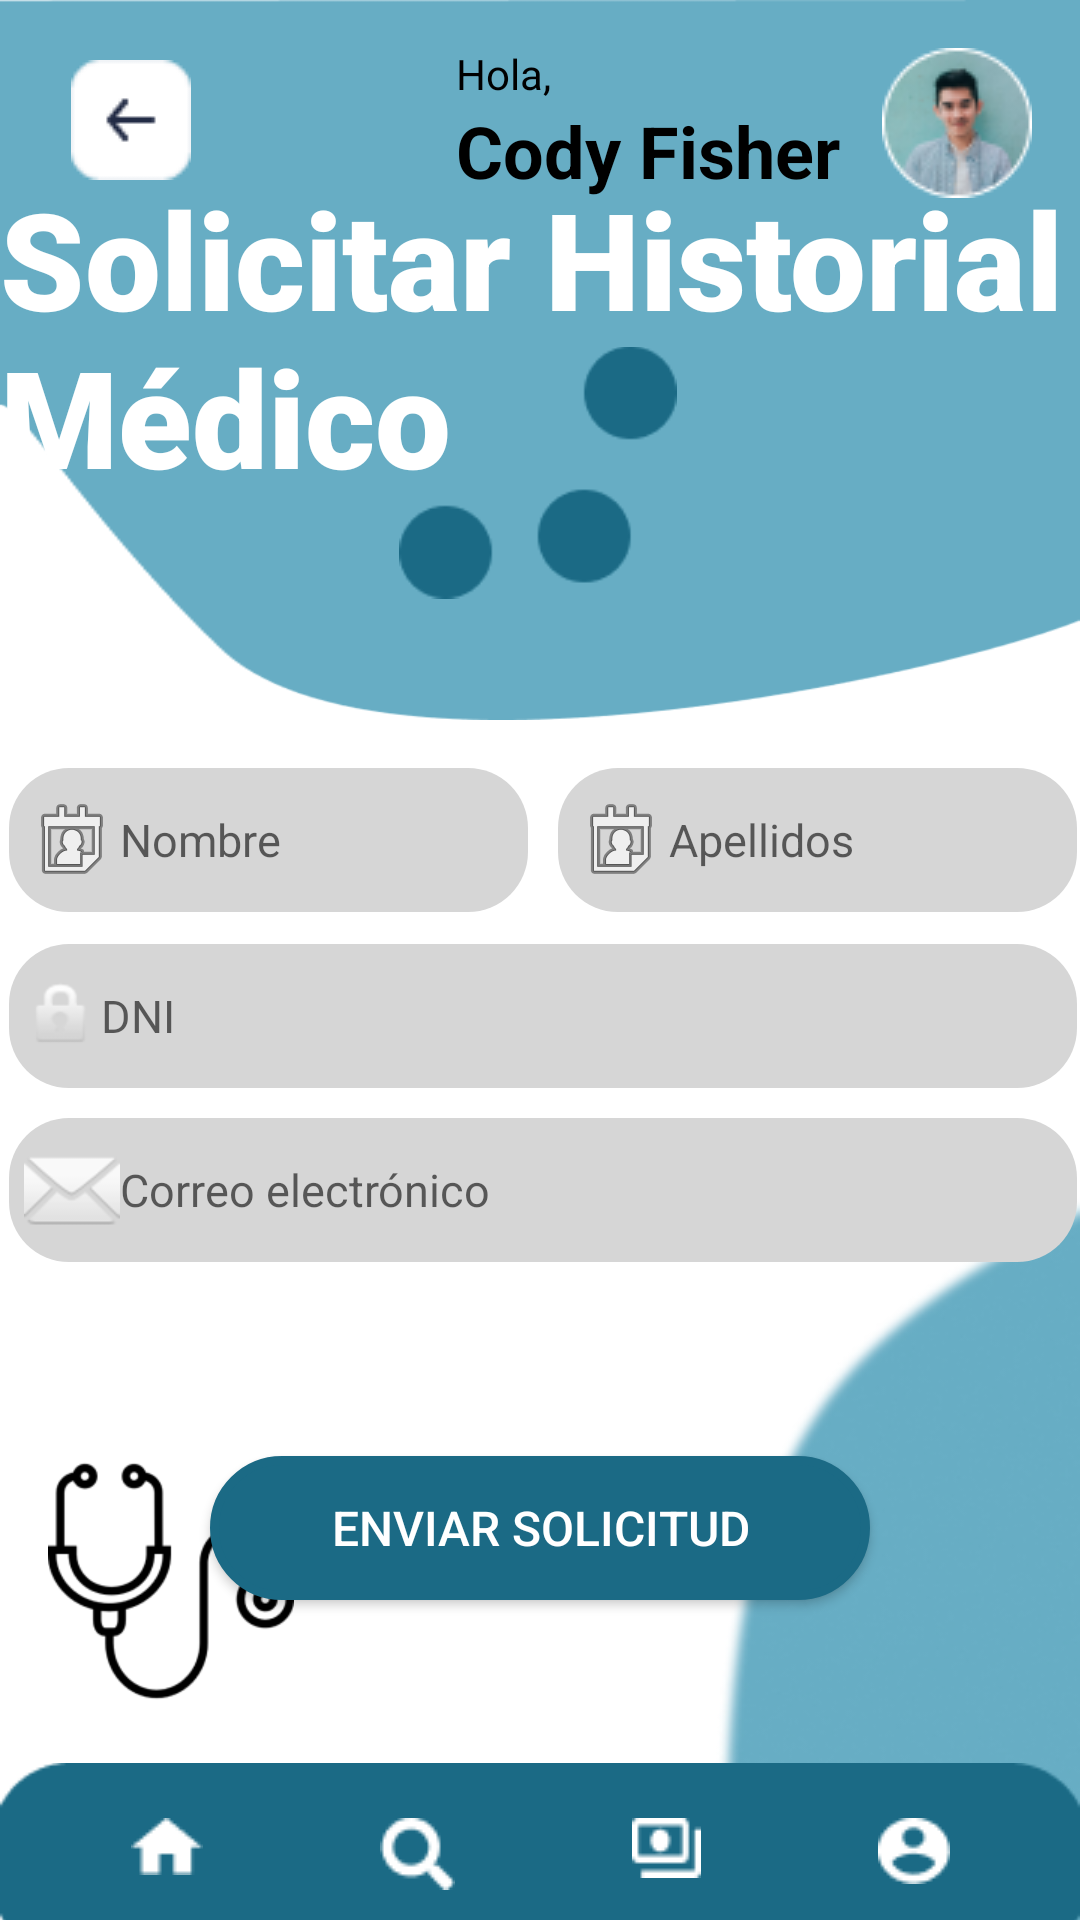

Icon bounding boxes for this 1080px x 1920px phone screenshot, format [x1,y1,x2,y2]:
back: [71,60,191,180]
estetoscopio: [48,1458,294,1699]
home: [131,1818,203,1875]
payments: [632,1818,701,1878]
search: [380,1818,455,1890]
